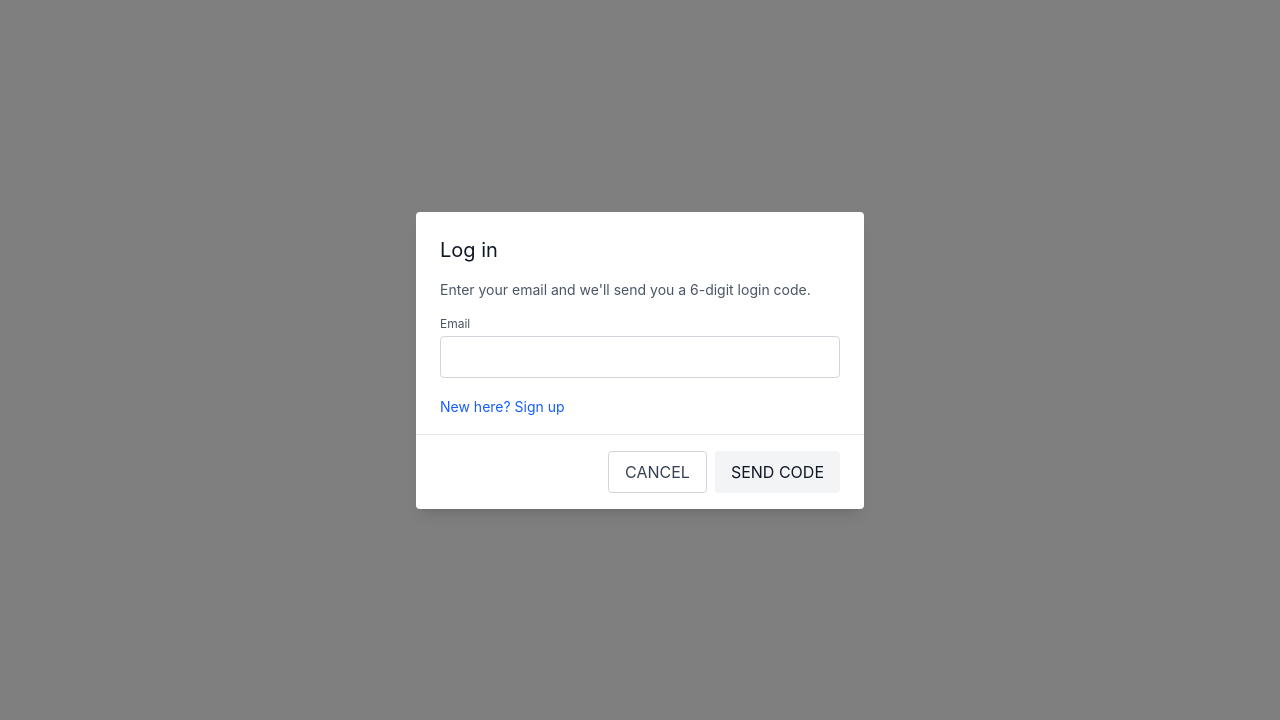
it: GuestSignInDialog › signs up and shows the check-your-email screen
The width and height of the screenshot is (1280, 720).
Click the button "New here? Sign up" at (502, 406), box x1=440 y1=396 x2=565 y2=416
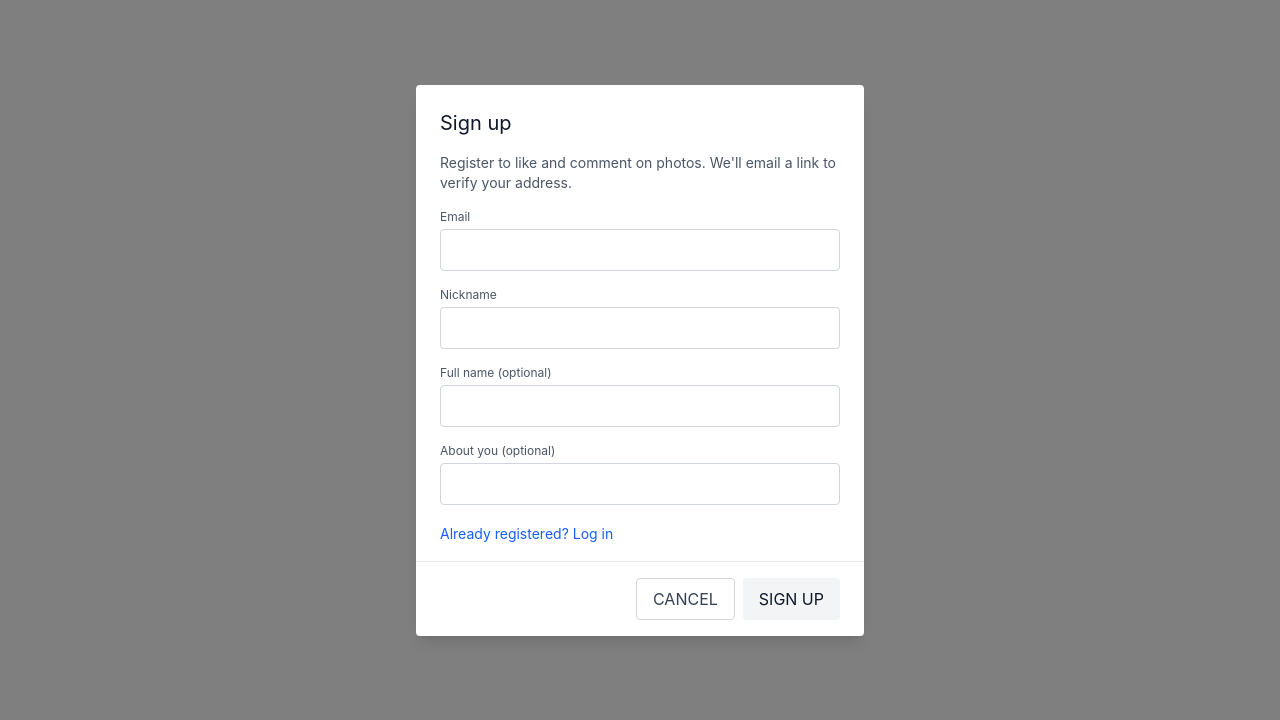
Type "a@b.c" into the field labelled "Email" at (640, 250), box x1=440 y1=228 x2=840 y2=270
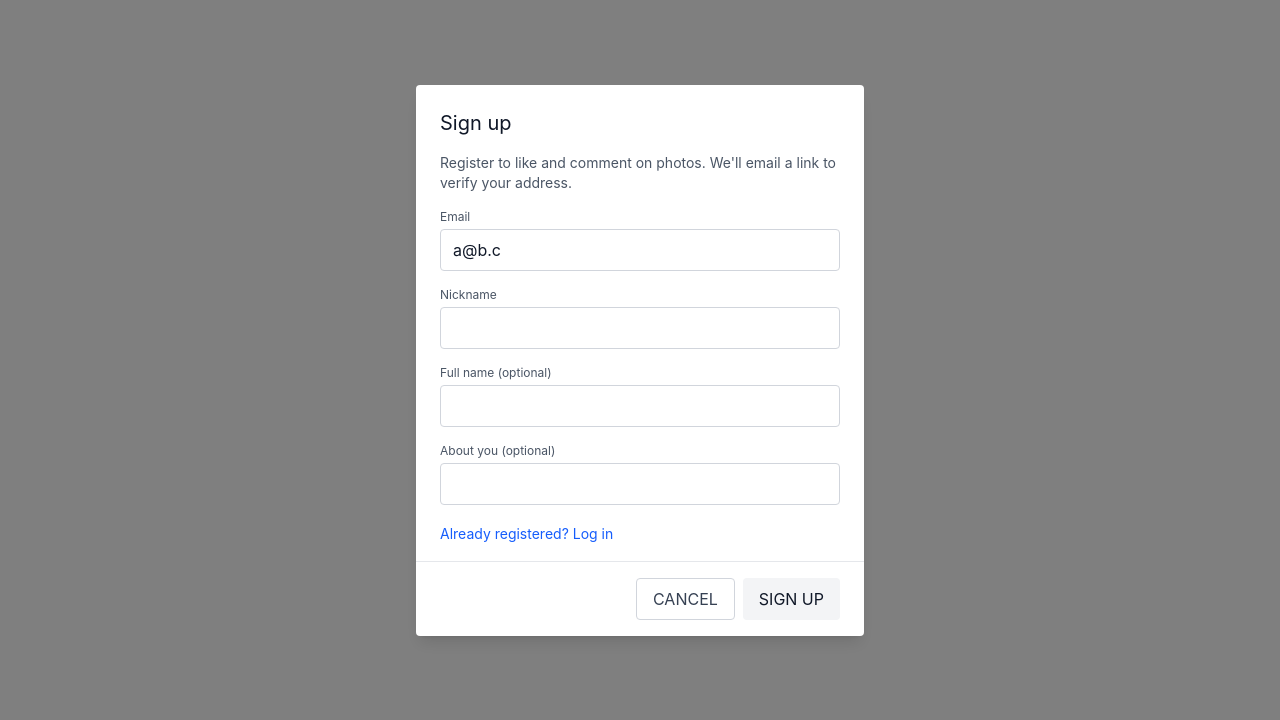
Type "Ada" into the field labelled "Nickname" at (640, 328), box x1=440 y1=306 x2=840 y2=348
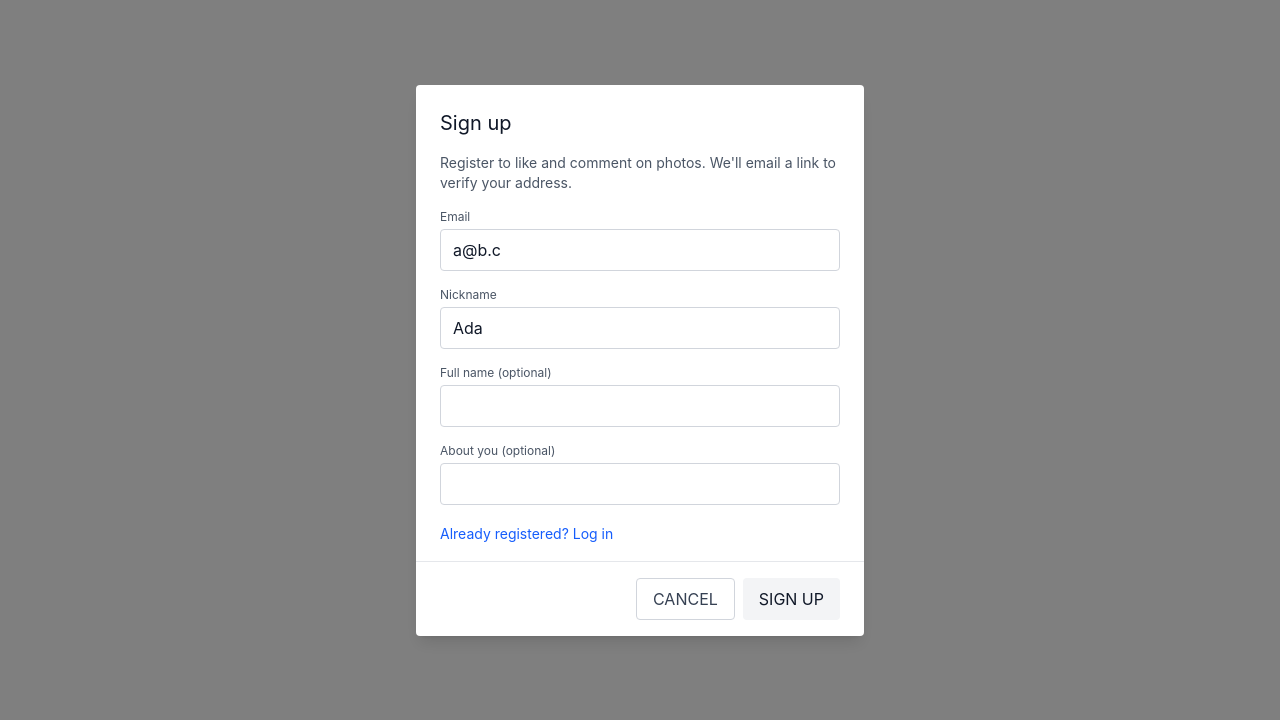
Click the button "SIGN UP" at (791, 598), box x1=743 y1=578 x2=840 y2=620
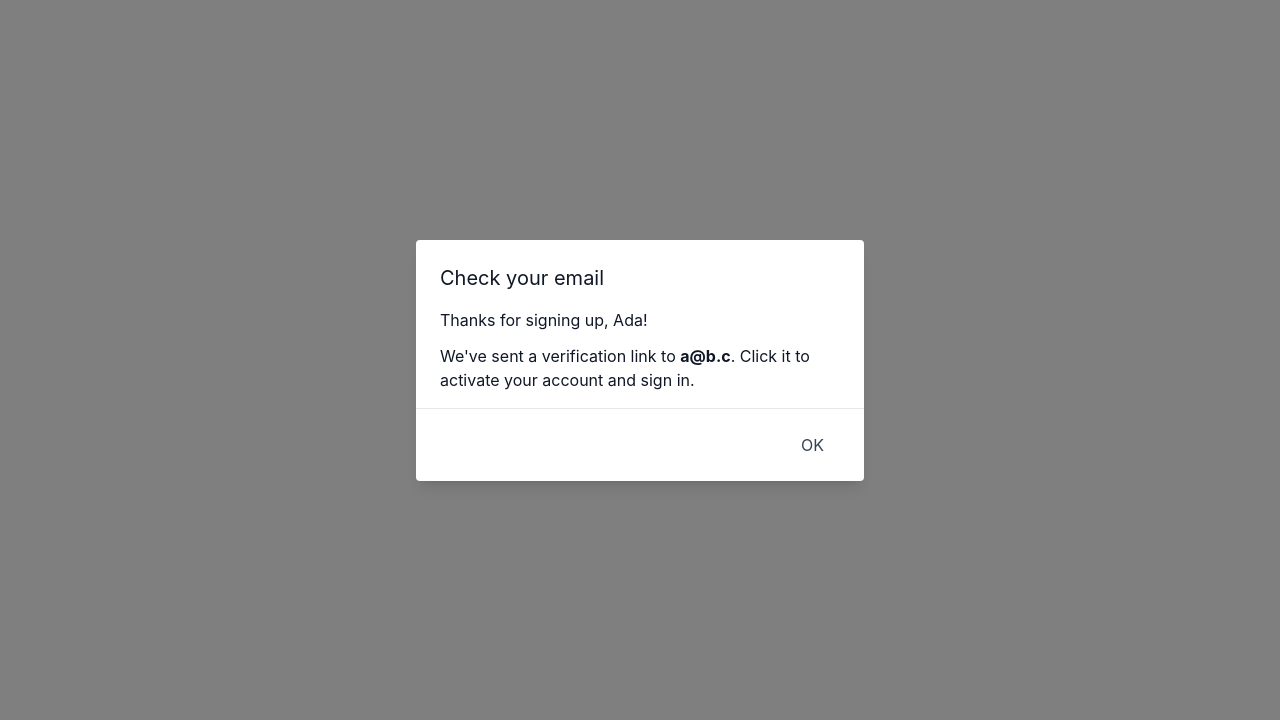
expect the heading "Check your email" is shown: met, box x1=440 y1=266 x2=604 y2=290
